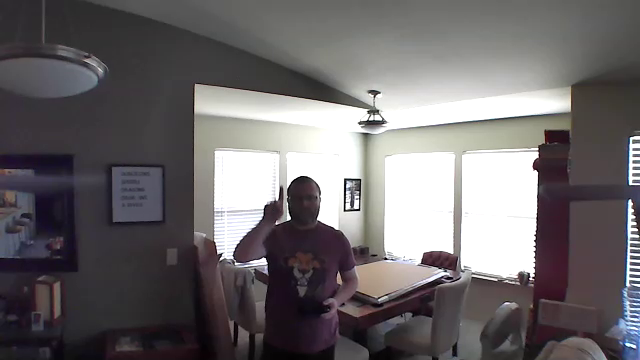up: (263, 182, 287, 223)
